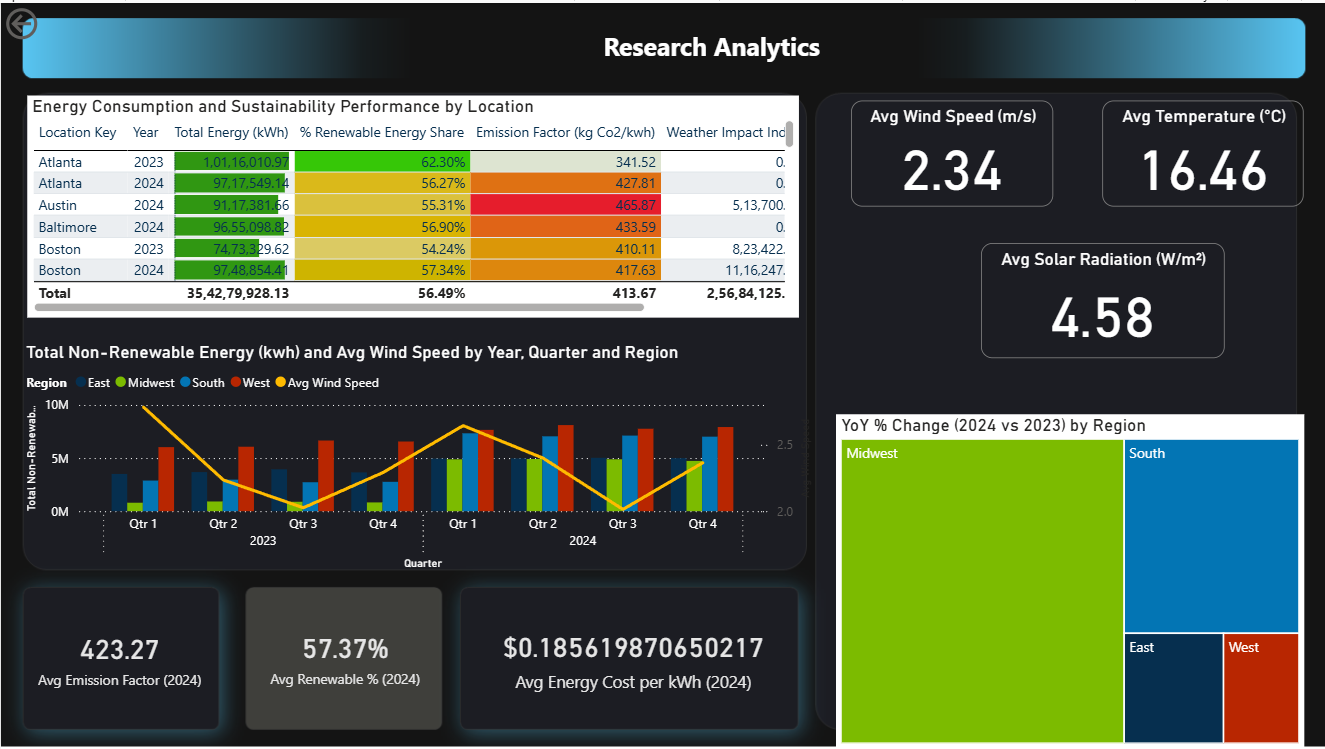

This screenshot's page, from the dashboard's own definition file:
{"tool":"powerbi","page":{"name":"Research Analytics","canvas":[1280,720],"ordinal":2},"visuals":[{"type":"tableEx","title":"Energy Consumption and Sustainability Performance by Location","fields":{"Values":["Dim_Location.Location Key","Dim_Date.Year","DAX House.Total Energy (kWh)","DAX House.% Renewable Energy Share","DAX House.Emission Factor (kg Co2/kwh)","DAX House.Weather Impact Index","DAX House.Energy cost per kwh"]},"box":[25.3,89.2,745,214.1],"z":0},{"type":"treemap","fields":{"Values":["DAX House.YoY % Change (2024 vs 2023)"],"Group":["Dim_Location.Region"]},"box":[806,397,452,322.7],"z":1000},{"type":"card","fields":{"Values":["DAX House.Avg Renewable % (2024)"]},"box":[246.5,563.9,172.6,134],"z":2000},{"type":"card","fields":{"Values":["DAX House.Avg Emission Factor (2024)"]},"box":[20,578.6,188.6,104.3],"z":3000},{"type":"card","fields":{"Values":["DAX House.Avg Energy Cost per kWh (2024)"]},"box":[451.4,564.3,318.6,134.3],"z":4000},{"type":"actionButton","box":[0,0,100,40],"z":5000},{"type":"textbox","box":[450.7,20.3,469.4,45.2],"z":6000},{"type":"lineClusteredColumnComboChart","fields":{"Category":["Dim_Date.Date.Variation.Date Hierarchy.Year","Dim_Date.Date.Variation.Date Hierarchy.Quarter","Dim_Date.Date.Variation.Date Hierarchy.Month"],"Y":["DAX House.Total Non-Renewable Energy (kwh)"],"Y2":["DAX House.Avg Wind Speed"],"Series":["Dim_Location.Region"]},"box":[19.3,327.1,768.8,224.5],"z":7000},{"type":"card","title":"Avg Temperature (°C)","fields":{"Values":["DAX House.Avg Temperature"]},"box":[1063.2,93.7,194.8,102.6],"z":8000},{"type":"card","title":"Avg Wind Speed (m/s)","fields":{"Values":["DAX House.Avg Wind Speed"]},"box":[820.4,94.1,195.4,102.5],"z":9000},{"type":"card","title":"Avg Solar Radiation (W/m²)","fields":{"Values":["DAX House.Avg Solar Radiation"]},"box":[945.7,232,234.9,111.5],"z":10000}]}

Visuals, with their boxes in screenshot pixels (x1, y1, x2, y2), scaled from the page's 1280x720 canvas onto the 1325x749 screenshot:
"Energy Consumption and Sustainability Performance by Location" tableEx: bbox=[26, 93, 797, 316]
treemap - DAX House.YoY % Change (2024 vs 2023) x Dim_Location.Region: bbox=[834, 413, 1302, 748]
card - DAX House.Avg Renewable % (2024): bbox=[255, 587, 434, 726]
card - DAX House.Avg Emission Factor (2024): bbox=[21, 602, 216, 710]
card - DAX House.Avg Energy Cost per kWh (2024): bbox=[467, 587, 797, 727]
actionButton: bbox=[0, 0, 104, 42]
textbox: bbox=[467, 21, 952, 68]
lineClusteredColumnComboChart - Dim_Date.Date.Variation.Date Hierarchy.Year x Dim_Date.Date.Variation.Date Hierarchy.Quarter: bbox=[20, 340, 816, 574]
"Avg Temperature (°C)" card: bbox=[1101, 97, 1302, 204]
"Avg Wind Speed (m/s)" card: bbox=[849, 98, 1052, 205]
"Avg Solar Radiation (W/m²)" card: bbox=[979, 241, 1222, 357]
